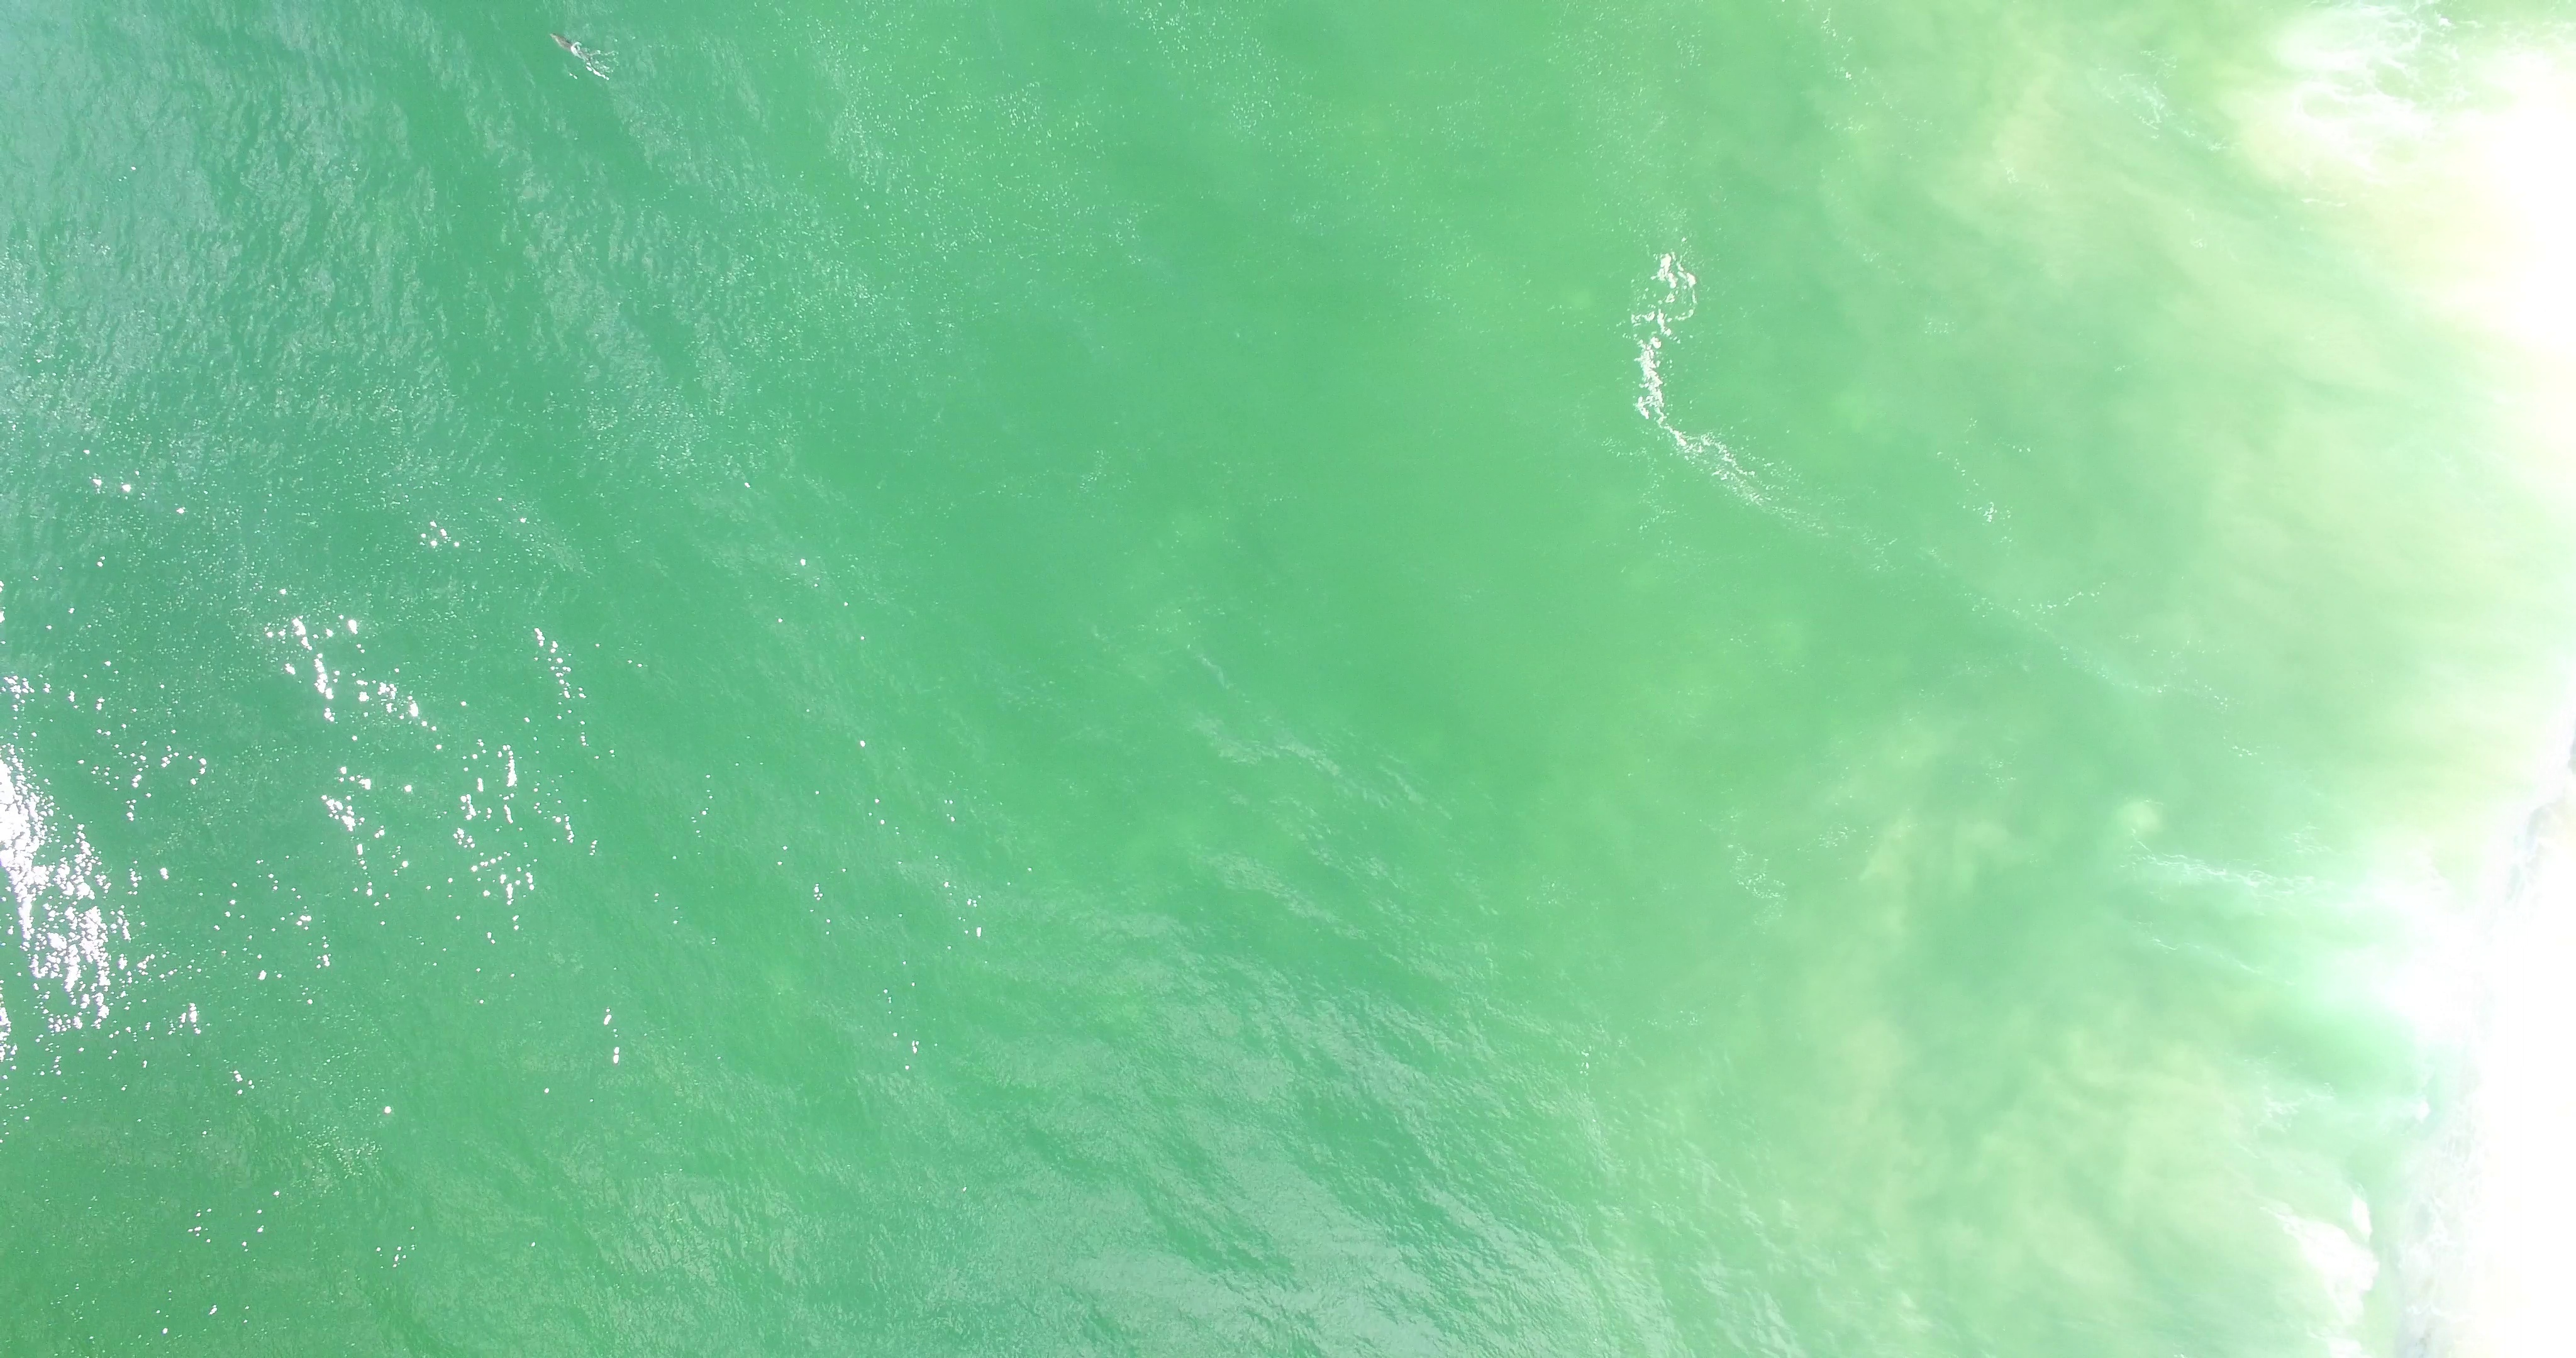dolphin: (549, 31, 605, 73)
